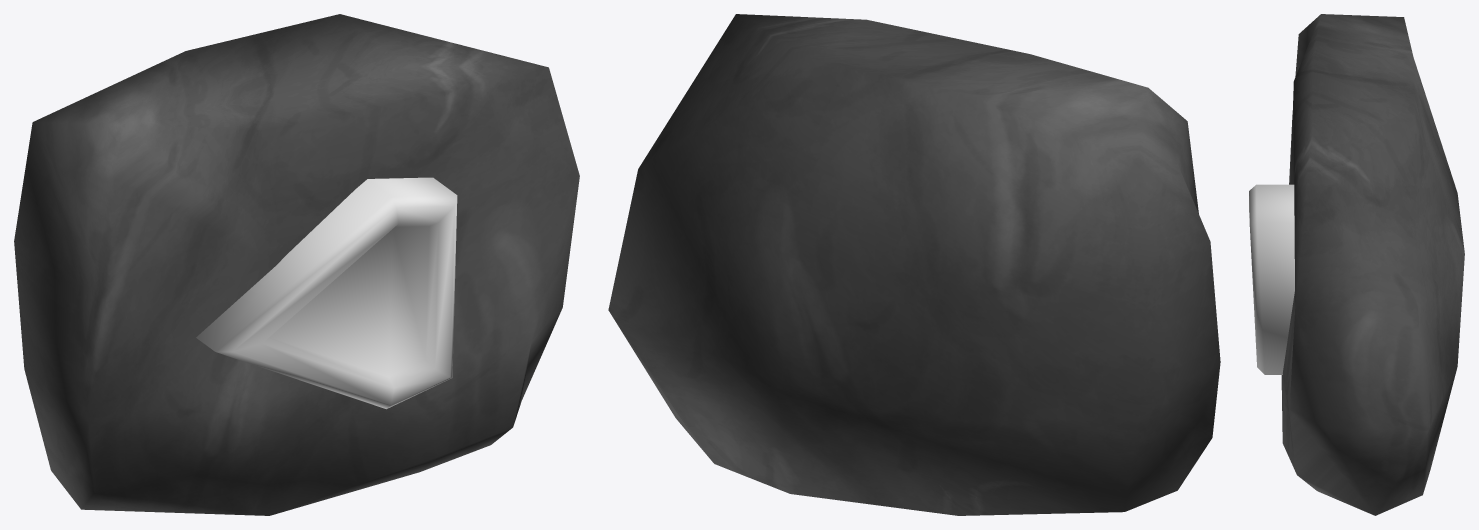
File: Stone UI Button Left.fbx
3 renders of one model, left to right at view 1: azimuth 30°, elevation 25°; view 2: azimuth 150°, elevation 25°; view 3: azimuth 270°, elevation 25°, orthographic. The views are drawn at different scales.
Visible parts, largest first — view 1: Stone UI Button Left; view 2: Stone UI Button Left; view 3: Stone UI Button Left.
Part boxes in pixels (<box>): Stone UI Button Left: <box>14,14,579,515</box>; Stone UI Button Left: <box>608,14,1220,515</box>; Stone UI Button Left: <box>1249,14,1464,515</box>.
Bounding box in the file's own units: 85.82 × 66.79 × 37.85.
